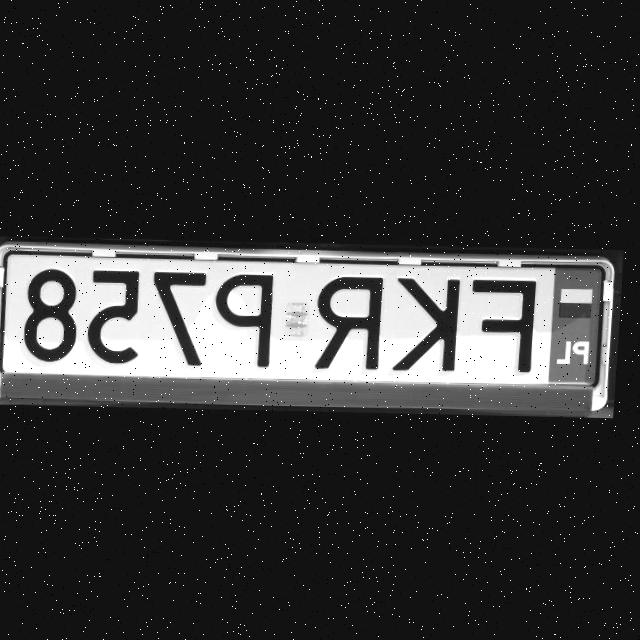license-plates: (0, 254, 603, 387)
